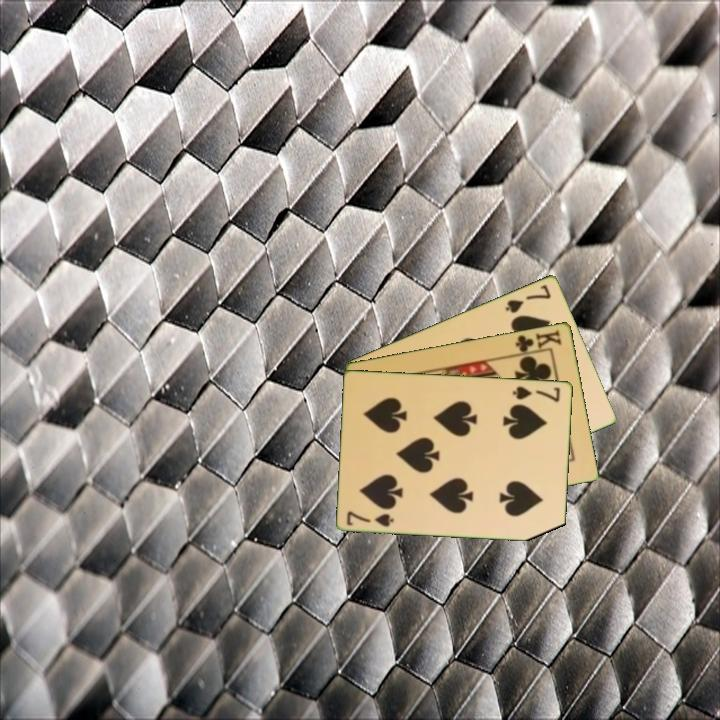7s: (502, 281, 554, 316), (343, 507, 397, 530), (509, 383, 563, 404)
Kc: (512, 326, 565, 357)
